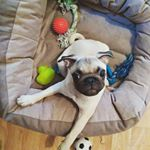puppy: (49, 34, 116, 150)
